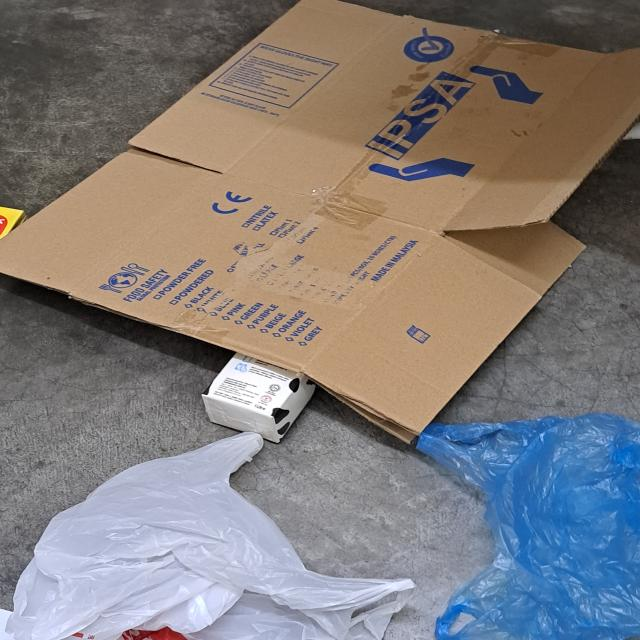cardboard: (0, 0, 640, 447)
drink carton: (198, 351, 318, 444)
plastic bag: (0, 432, 417, 640), (408, 413, 640, 640)
